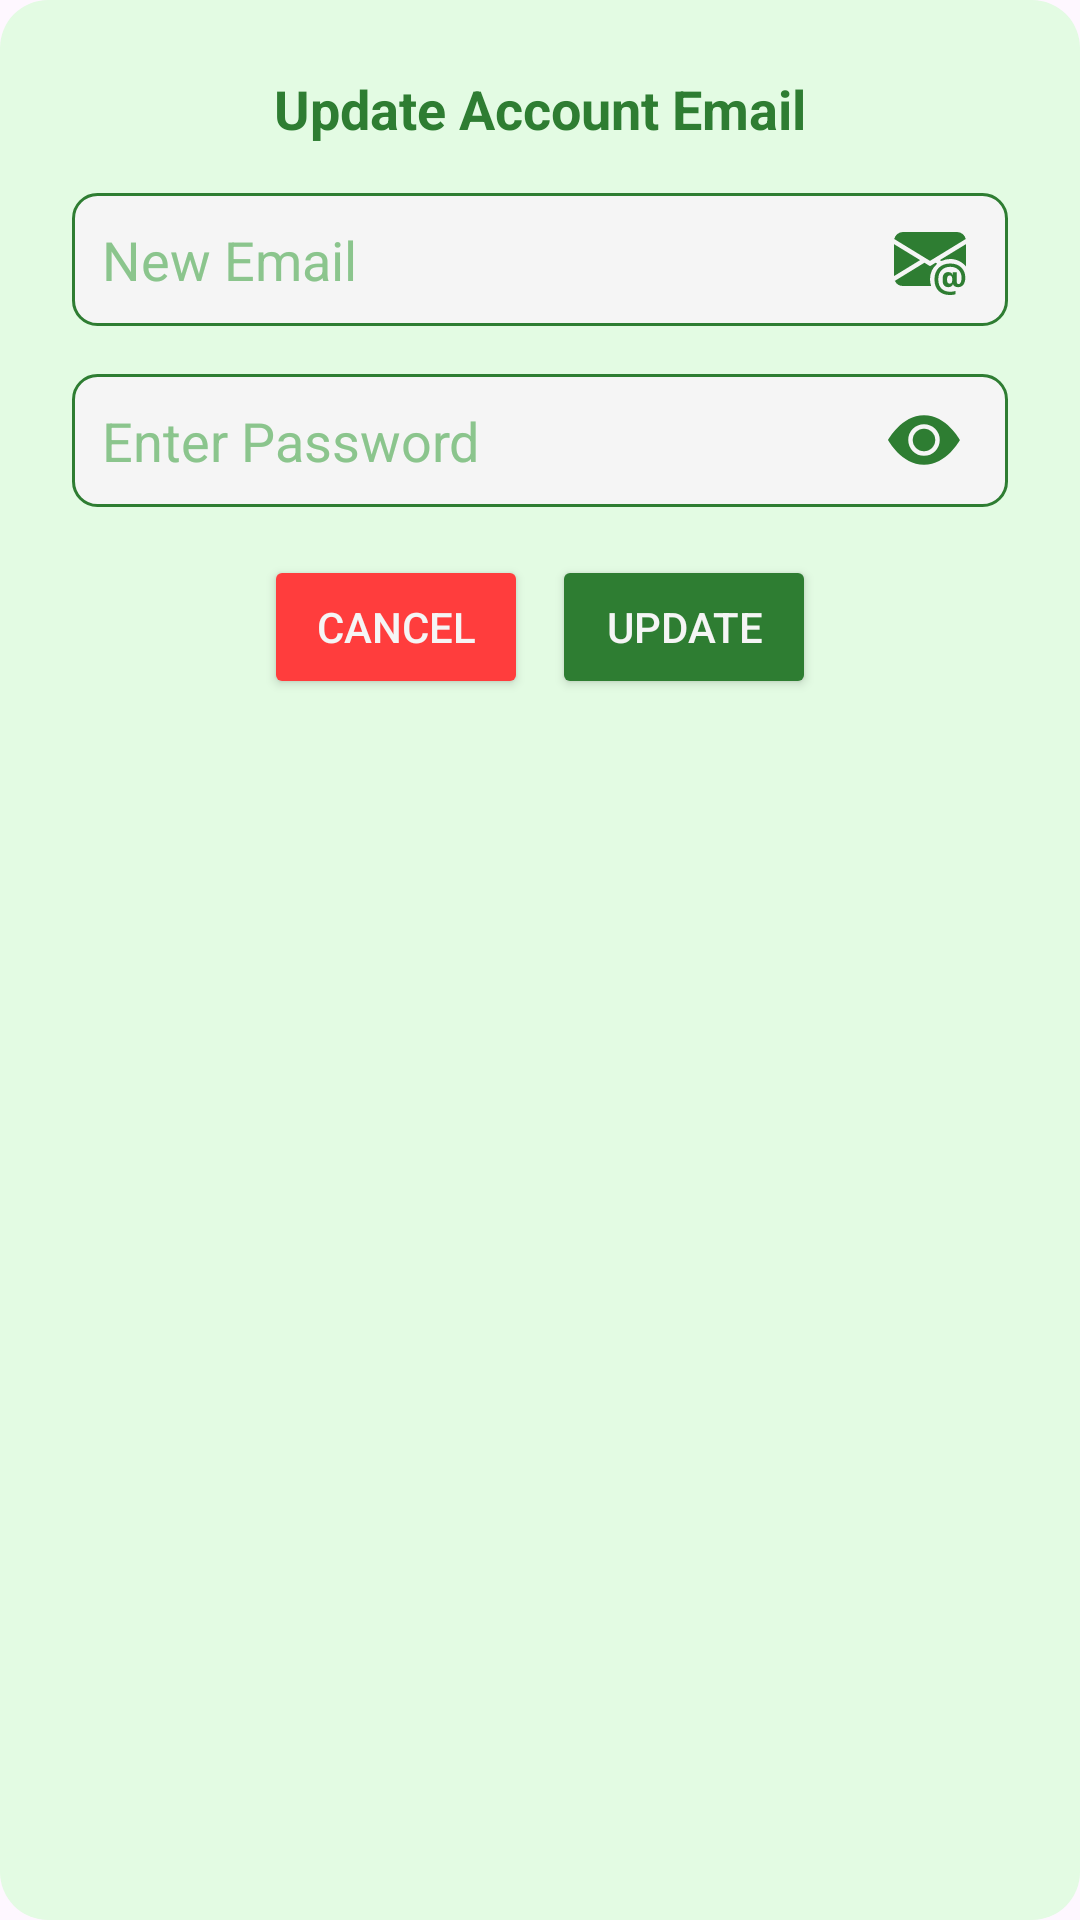

Where icons sit on this 1080*1920 app screen, as {"x1": x1, "y1": y1, "x2": x2, "y2": y2}:
show: {"x1": 888, "y1": 415, "x2": 960, "y2": 465}
